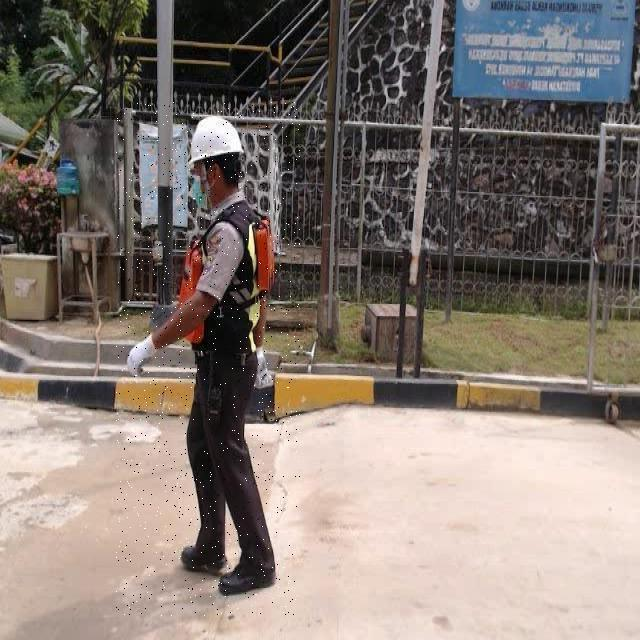helmet: (184, 111, 243, 171)
safety_vest: (174, 204, 274, 348)
